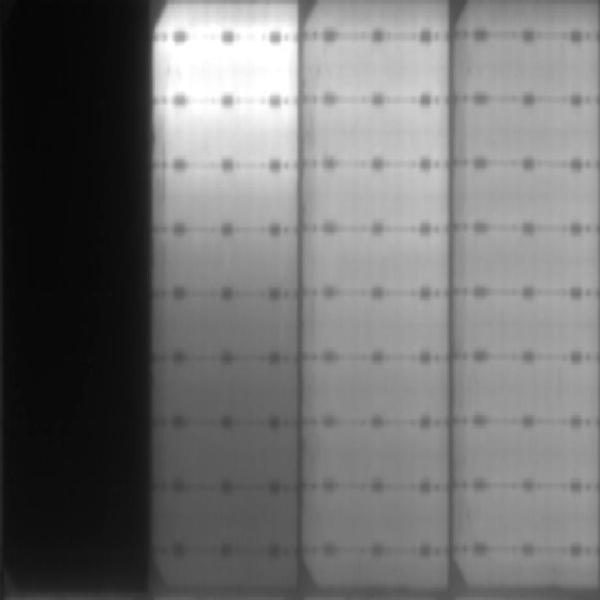hot_spot: (165, 49, 292, 91)
no_electricity: (1, 1, 150, 600)
